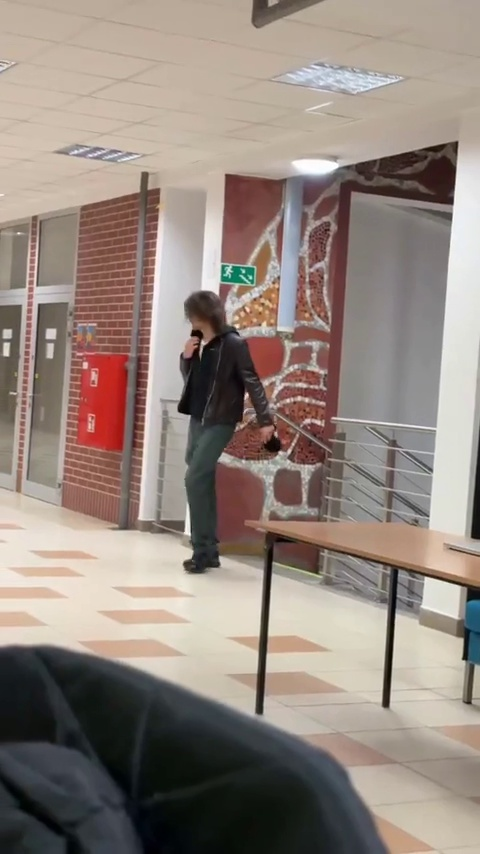no vest: (176, 290, 276, 574)
